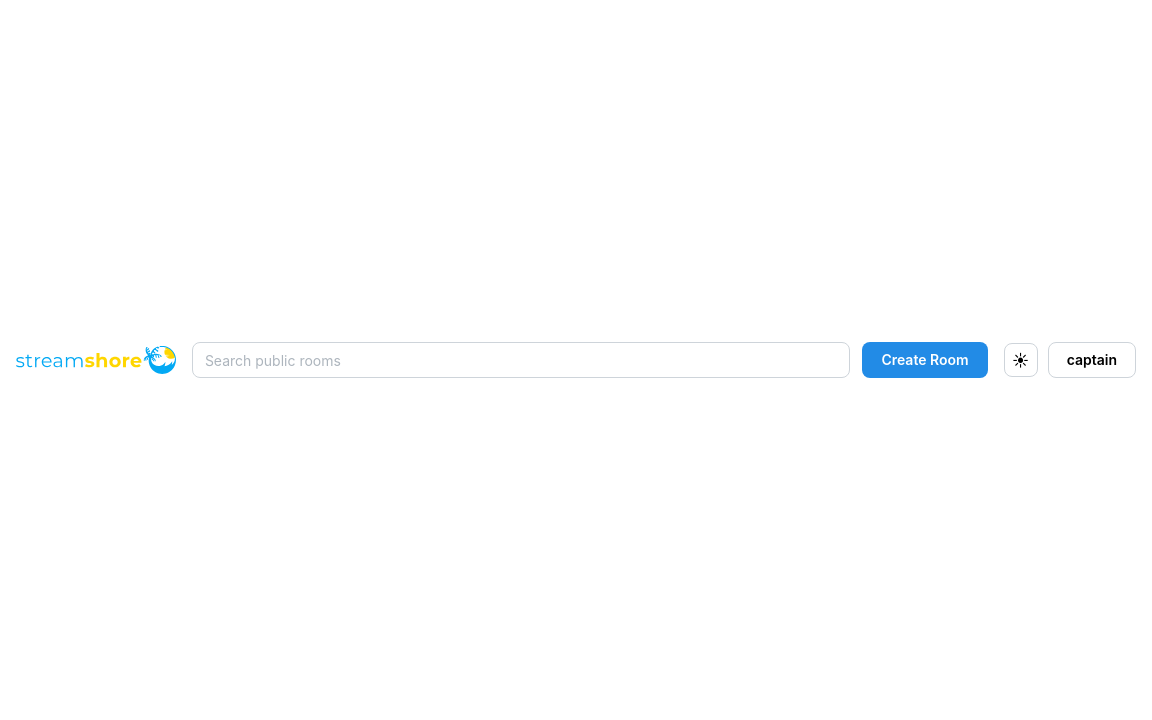
Test case: PrimaryNavigation › toggles the theme action into dark mode
What coordinates should you click on to do the following:
click the button named "Switch to dark theme"
I would click on:
 (1021, 360)
Its box is [1004,343,1038,377].
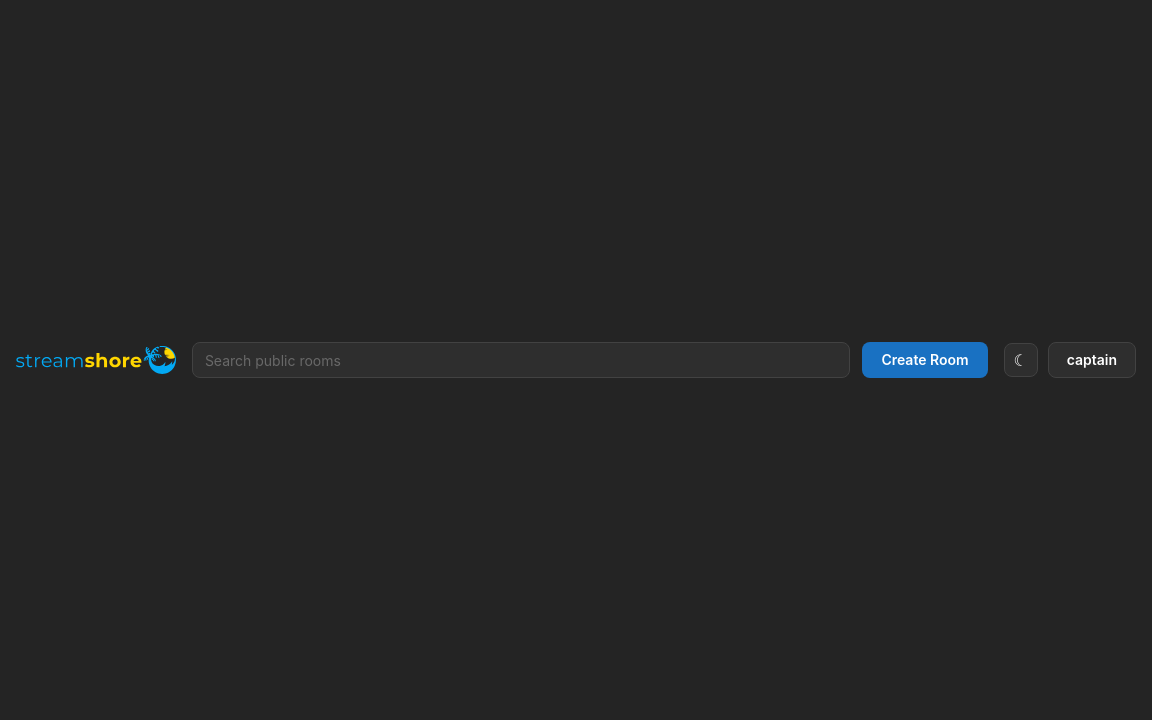
Expected: the button named "Switch to light theme" reads "☾", [1004,343,1038,377]
